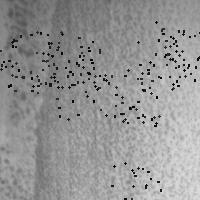pitted_surface: (38, 1, 200, 198), (1, 1, 48, 198), (0, 31, 58, 90), (100, 69, 160, 125), (42, 31, 99, 87), (37, 66, 96, 118), (137, 21, 197, 72), (162, 28, 200, 88), (110, 162, 165, 200)
